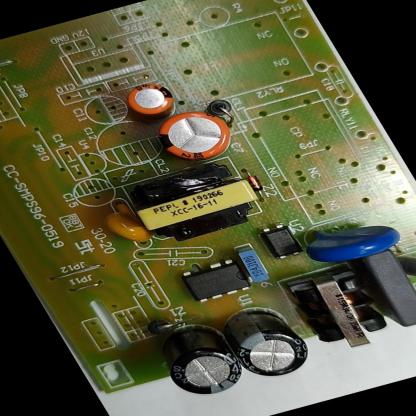Cap1: (140, 101, 249, 170)
Cap2: (116, 75, 185, 124)
Cap3: (216, 297, 320, 383)
Cap4: (134, 309, 258, 409)
MOSFET: (170, 254, 262, 309)
Mov: (290, 206, 414, 272)
Resistor: (394, 242, 415, 288)
Transformer: (107, 146, 282, 253), (279, 259, 401, 358)
